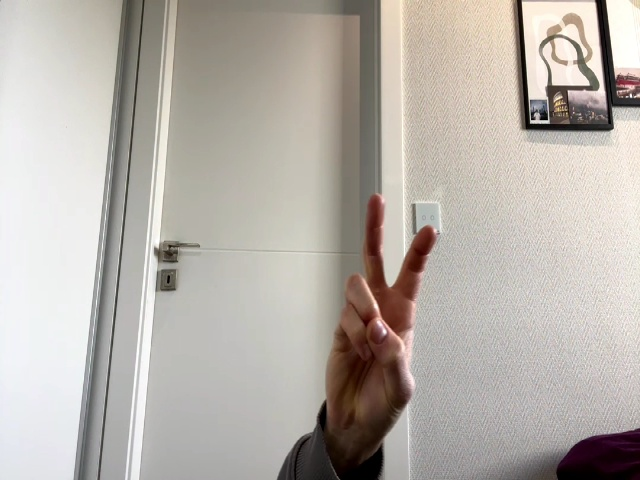H: (326, 194, 436, 433)
